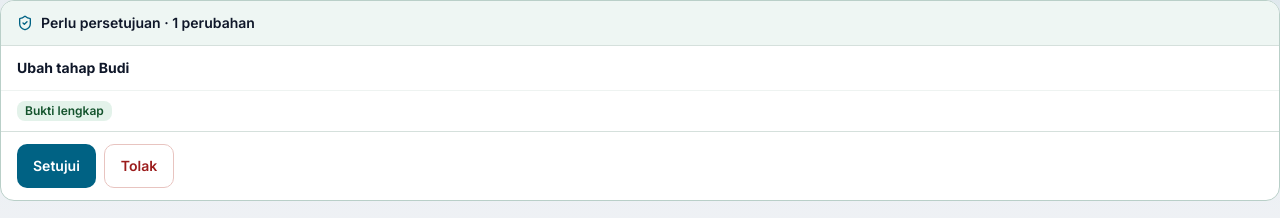
Test case: Setujui dipanggil sekali walau diklik dua kali cepat
Click the button with test id "ai-approve": (56, 166) [17,144,96,188]
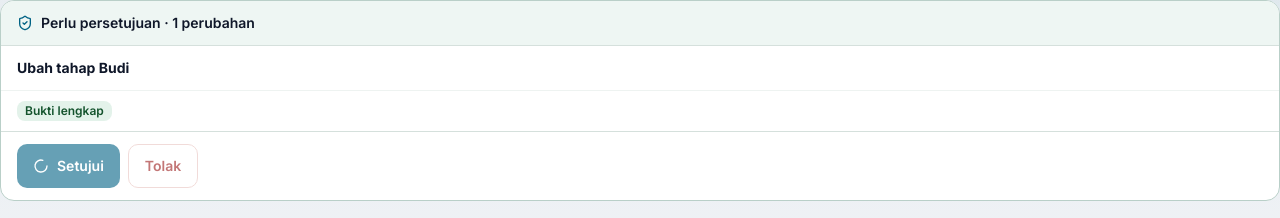
Click the button with test id "ai-approve": (68, 166) [17,144,120,188]
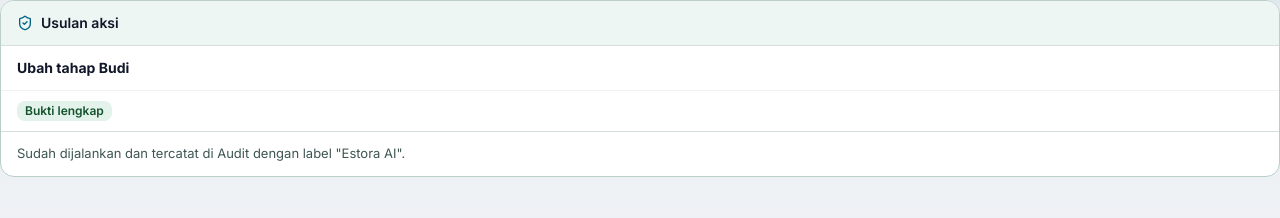
Expected: the message shows "Sudah dijalankan", [17,145,405,161]
